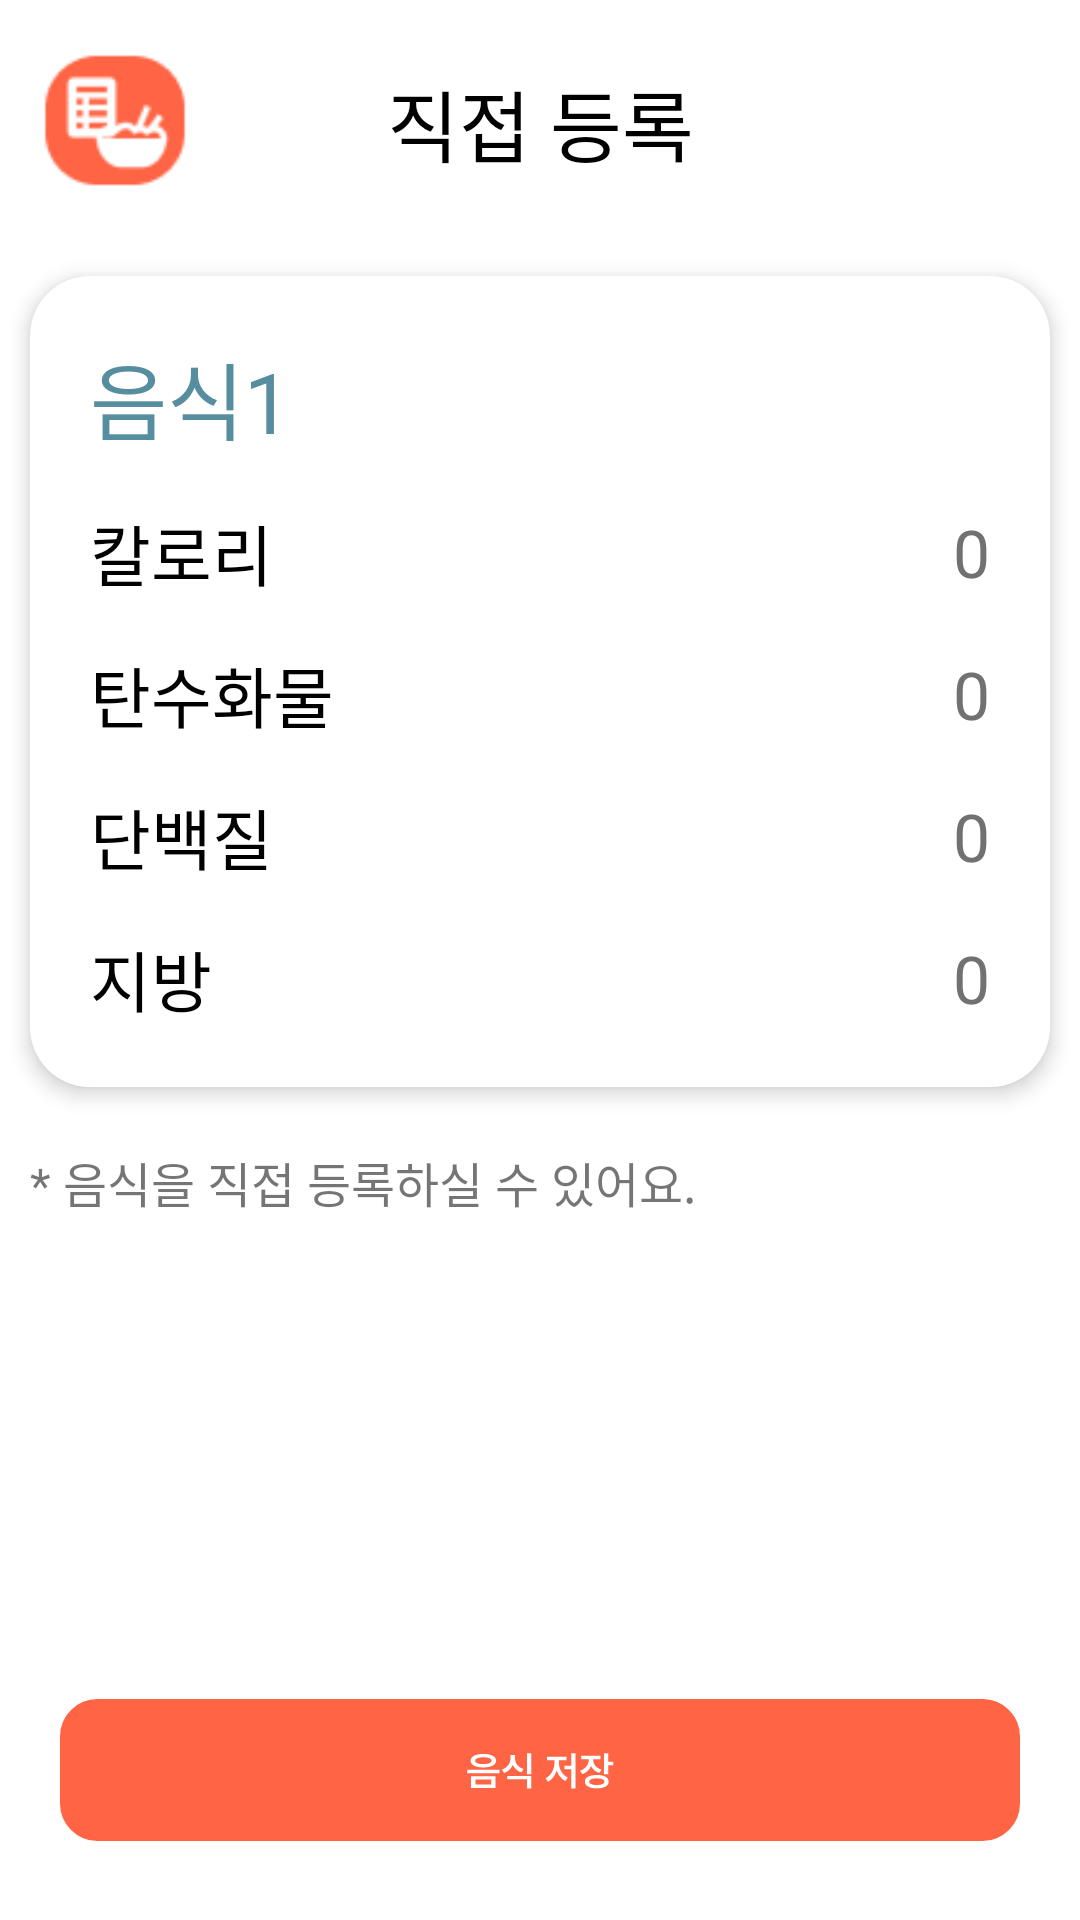

Named icons in this screenshot (1080 × 1920) and their centers, (x=x, y=y):
app: (x=114, y=120)
